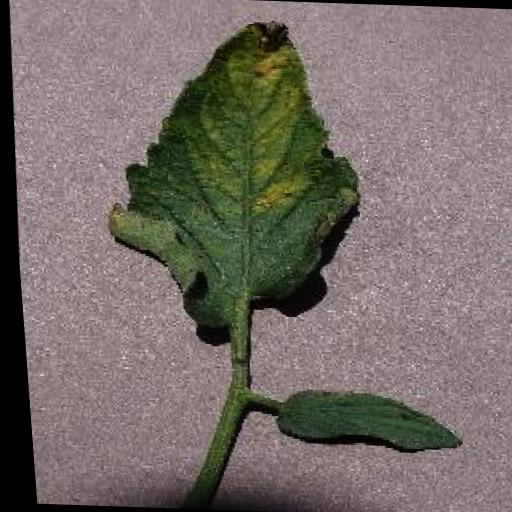Septoria: (89, 13, 371, 328)
